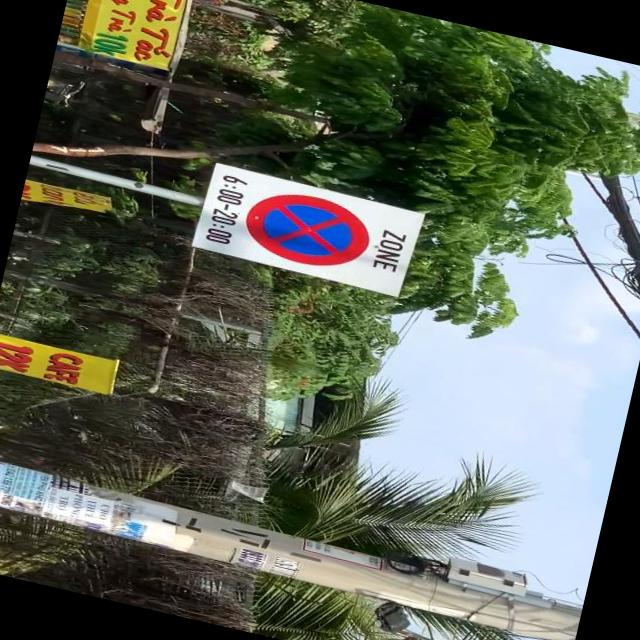P-130: (240, 184, 375, 276)
